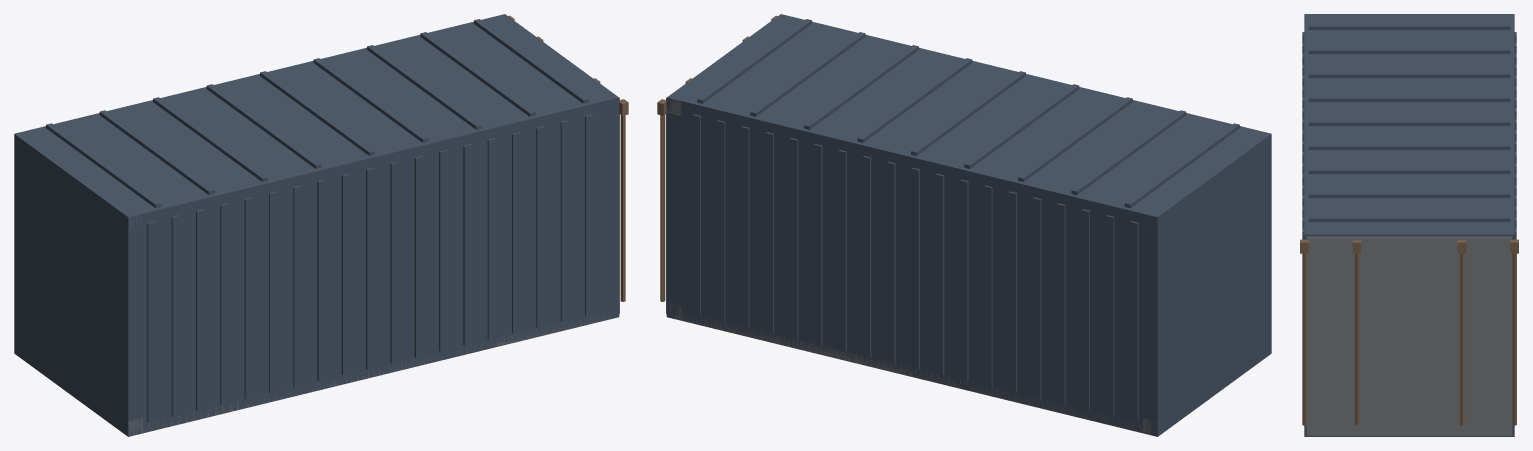
The model's file is container_navy.glb.
3 views of the same model, side by side, from view 1: azimuth 30°, elevation 25°; view 2: azimuth 150°, elevation 25°; view 3: azimuth 270°, elevation 25° (orthographic). The views are drawn at different scales.
Parts seen in each view (by area): view 1: container_navy.001; view 2: container_navy.001; view 3: container_navy.001.
Boxes of the visible parts, left/top/right/bottom form: container_navy.001: left=14, top=14, right=628, bottom=436; container_navy.001: left=657, top=14, right=1271, bottom=436; container_navy.001: left=1300, top=14, right=1518, bottom=436.
Size of the model in its own units: 6.15 by 2.63 by 2.54.
